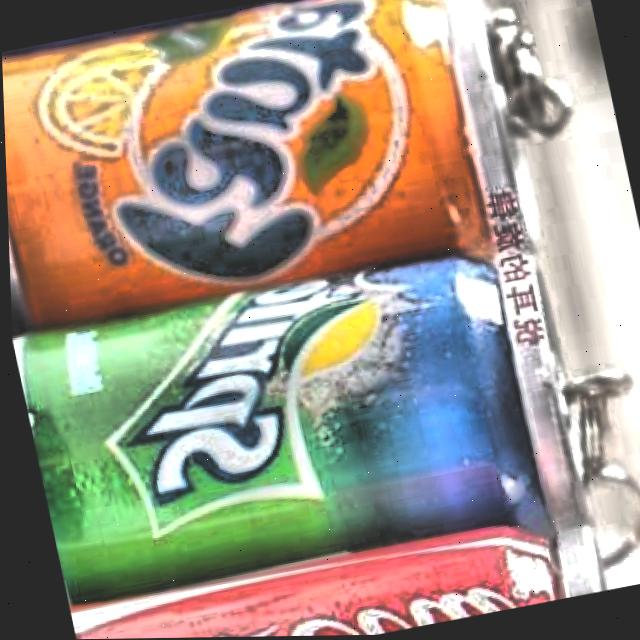metal: (7, 226, 618, 639), (0, 0, 570, 354), (59, 498, 617, 639)
